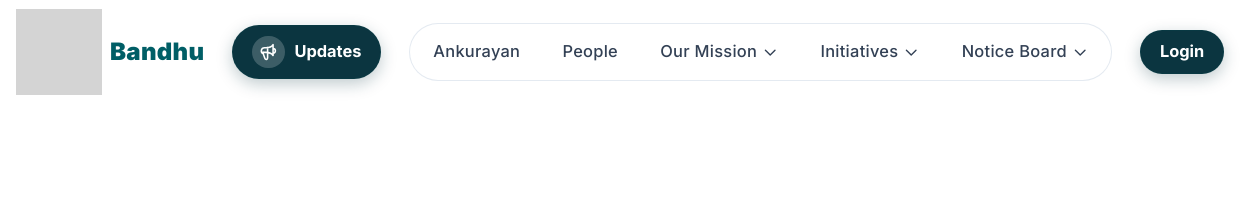
Test: Navbar desktop menu › omits Odisha Satabdi when flag off and not admin
The image size is (1247, 214).
Click the button "Initiatives": (870, 52) [813,33,926,71]
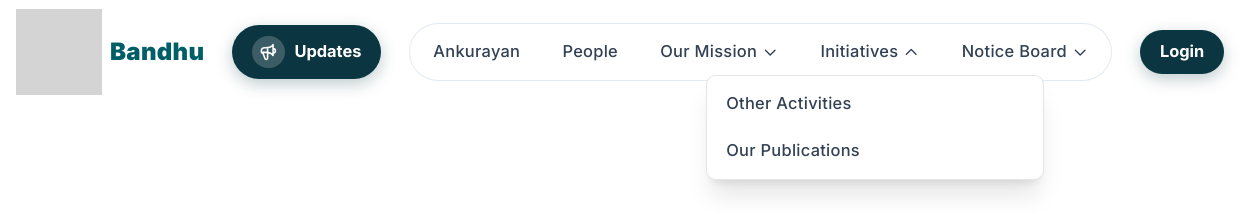
Check: the link "Other Activities" is shown, box [726,93,852,113]
